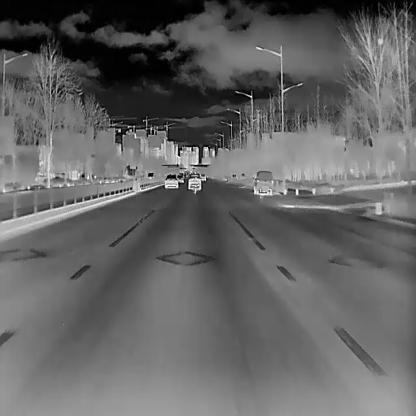bus: (123, 164, 136, 180)
car: (252, 169, 273, 195), (187, 173, 201, 189), (164, 173, 178, 188), (175, 171, 184, 182), (199, 172, 206, 180), (147, 170, 154, 178)
